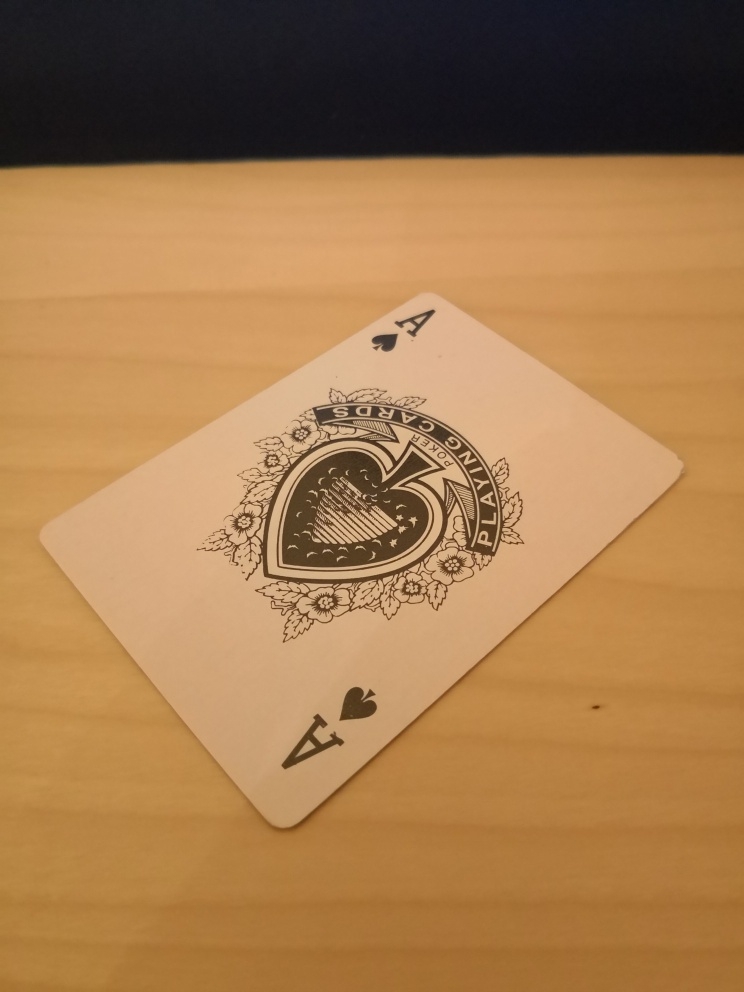ace: (37, 291, 686, 833)
